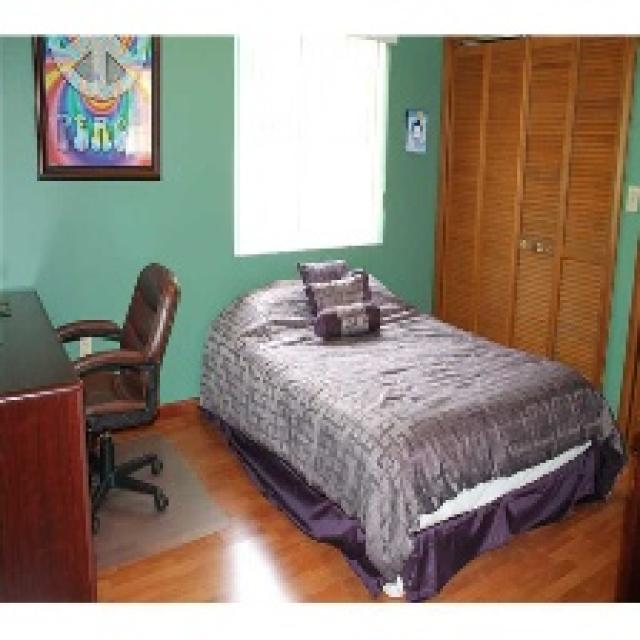Bed: (197, 266, 626, 600)
